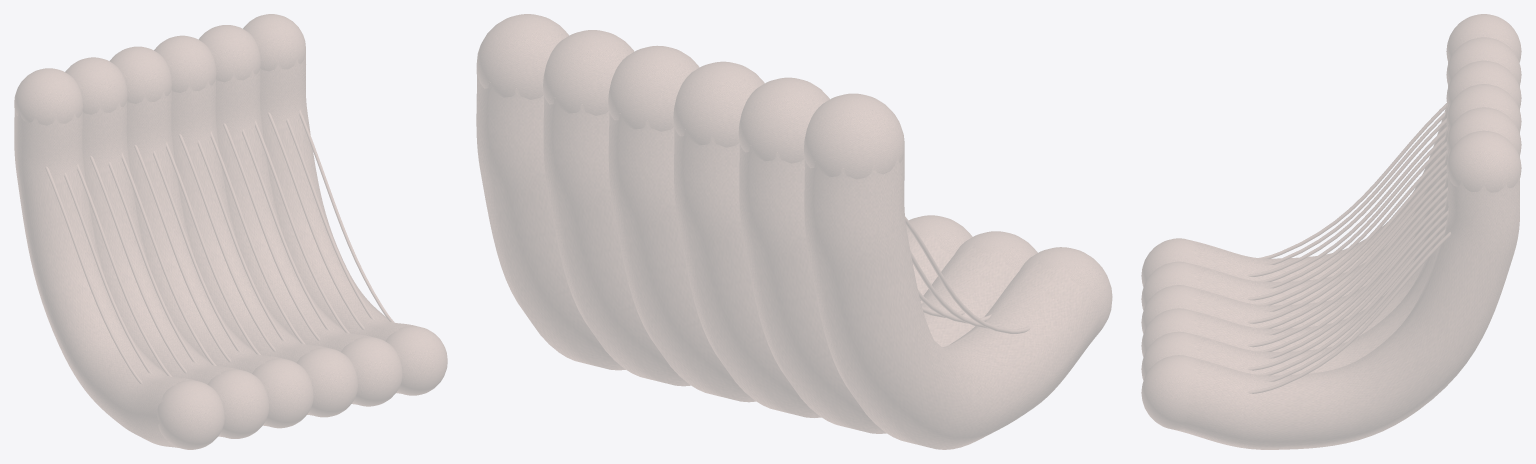
The model's file is ref07_03.glb.
The picture shows the model from 3 angles, left to right: view 1: azimuth 30°, elevation 25°; view 2: azimuth 150°, elevation 25°; view 3: azimuth 270°, elevation 25°; orthographic projection. The views are drawn at different scales.
Parts seen in each view (by area): view 1: ref07_03; view 2: ref07_03; view 3: ref07_03.
Part boxes in pixels (bbox=[...]): ref07_03: bbox=[14, 14, 447, 449]; ref07_03: bbox=[476, 14, 1112, 449]; ref07_03: bbox=[1141, 14, 1521, 449].
Bounding box in the file's own units: 0.795 × 0.7758 × 0.86.
Materials: 1 (1 with a texture image).
